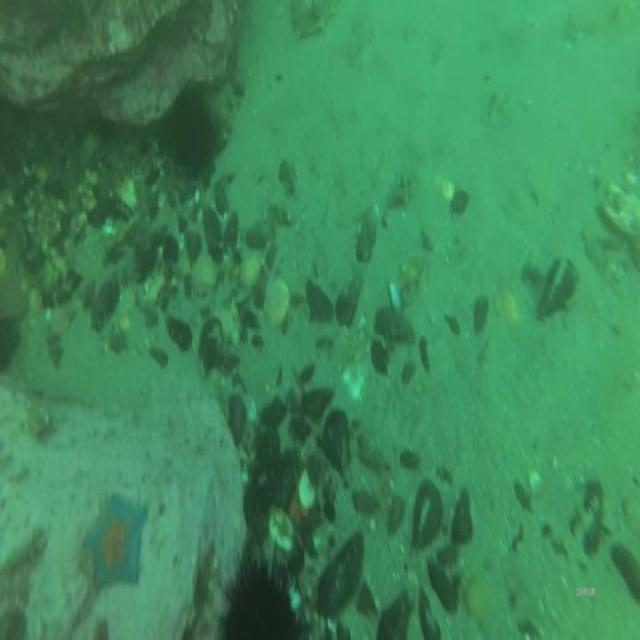echinus: (222, 570, 302, 640), (165, 95, 216, 174)
scallop: (264, 275, 290, 325)
starfish: (84, 498, 146, 588)
